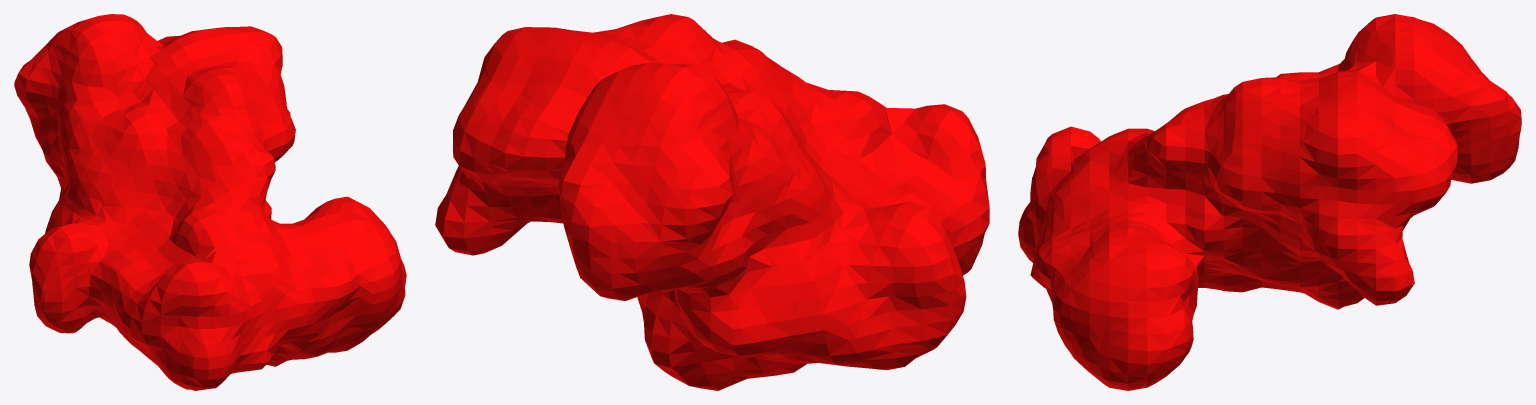
Rendered from argS_coarse.dae.
The picture shows the model from 3 angles, left to right: view 1: azimuth 30°, elevation 25°; view 2: azimuth 150°, elevation 25°; view 3: azimuth 270°, elevation 25°; orthographic projection. The views are drawn at different scales.
Parts seen in each view (by area): view 1: argS; view 2: argS; view 3: argS.
Boxes of the visible parts, x1,y1,x2,y2 form: argS: [14, 14, 406, 390]; argS: [435, 14, 989, 390]; argS: [1018, 14, 1521, 390].
Bounding box in the file's own units: 74.97 × 60.48 × 88.29.
